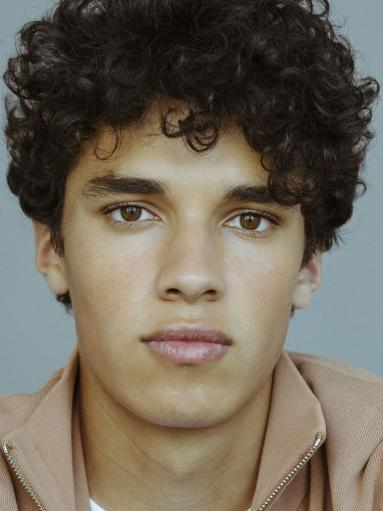left_eye: (223, 211, 283, 242)
left_lip_corner: (225, 335, 240, 356)
right_eye: (97, 202, 164, 234)
right_lip_corner: (136, 331, 154, 354)
